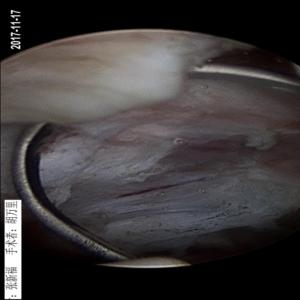film: (89, 171, 221, 209)
